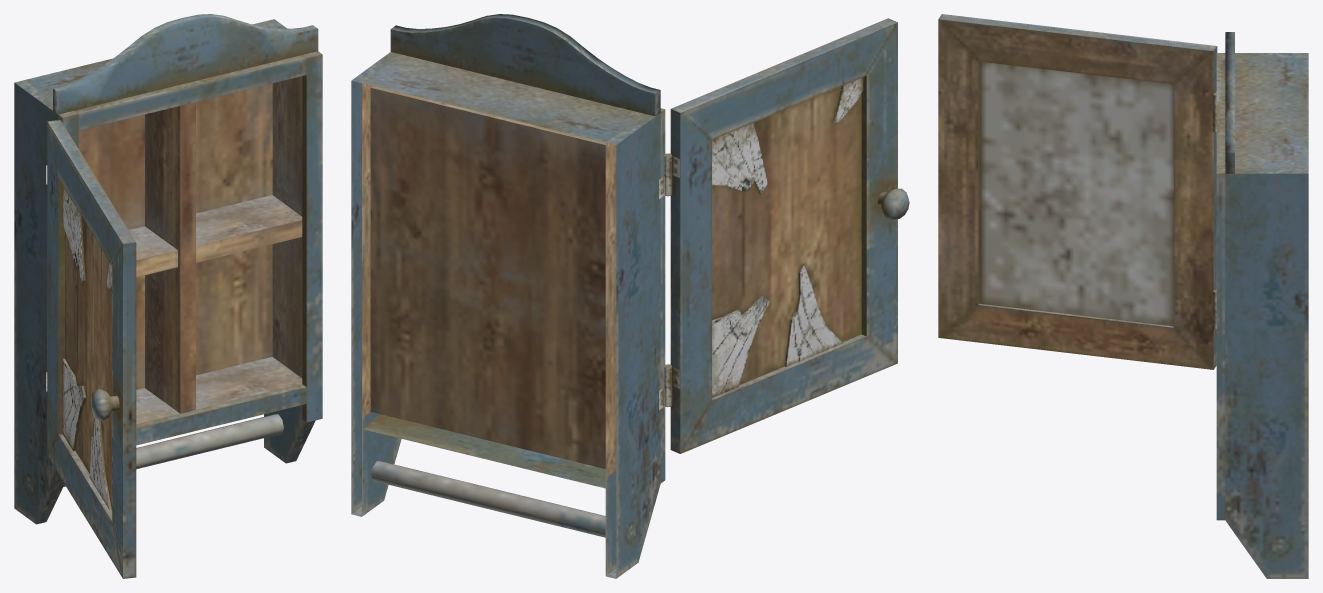
The model's file is 155_MirrorShelf.fbx.
3 renders of one model, left to right at view 1: azimuth 30°, elevation 25°; view 2: azimuth 150°, elevation 25°; view 3: azimuth 270°, elevation 25°, orthographic. The views are drawn at different scales.
Visible parts, largest first — view 1: LOD_1_Group_0_Sub_1__sm30_155_MirrorShelf01A_A_Mat, LOD_1_Group_1_Sub_1__sm30_155_MirrorShelf01A_A_Mat; view 2: LOD_1_Group_0_Sub_1__sm30_155_MirrorShelf01A_A_Mat, LOD_1_Group_1_Sub_1__sm30_155_MirrorShelf01A_A_Mat; view 3: LOD_1_Group_1_Sub_1__sm30_155_MirrorShelf01A_A_Mat, LOD_1_Group_0_Sub_1__sm30_155_MirrorShelf01A_A_Mat.
Part boxes in pixels (bbox=[...]): LOD_1_Group_0_Sub_1__sm30_155_MirrorShelf01A_A_Mat: bbox=[14, 14, 322, 524]; LOD_1_Group_1_Sub_1__sm30_155_MirrorShelf01A_A_Mat: bbox=[46, 120, 136, 578]; LOD_1_Group_0_Sub_1__sm30_155_MirrorShelf01A_A_Mat: bbox=[351, 14, 665, 578]; LOD_1_Group_1_Sub_1__sm30_155_MirrorShelf01A_A_Mat: bbox=[664, 18, 909, 453]; LOD_1_Group_1_Sub_1__sm30_155_MirrorShelf01A_A_Mat: bbox=[938, 14, 1217, 369]; LOD_1_Group_0_Sub_1__sm30_155_MirrorShelf01A_A_Mat: bbox=[1216, 32, 1308, 578].
Bounding box in the file's own units: 0.6779 × 0.8708 × 0.6304.
